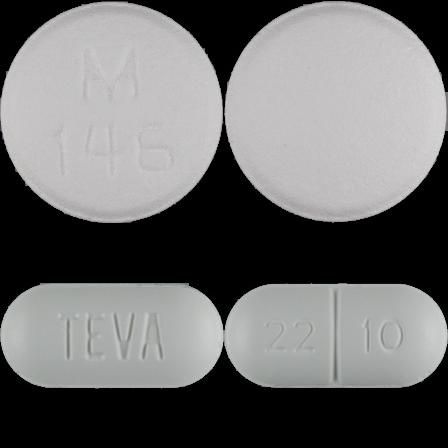76237-246: (0, 0, 224, 224)
